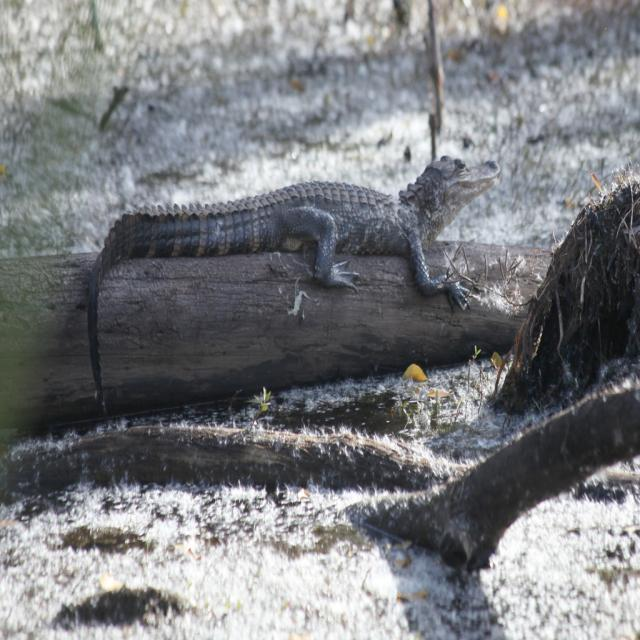crocodile: (75, 139, 520, 435)
